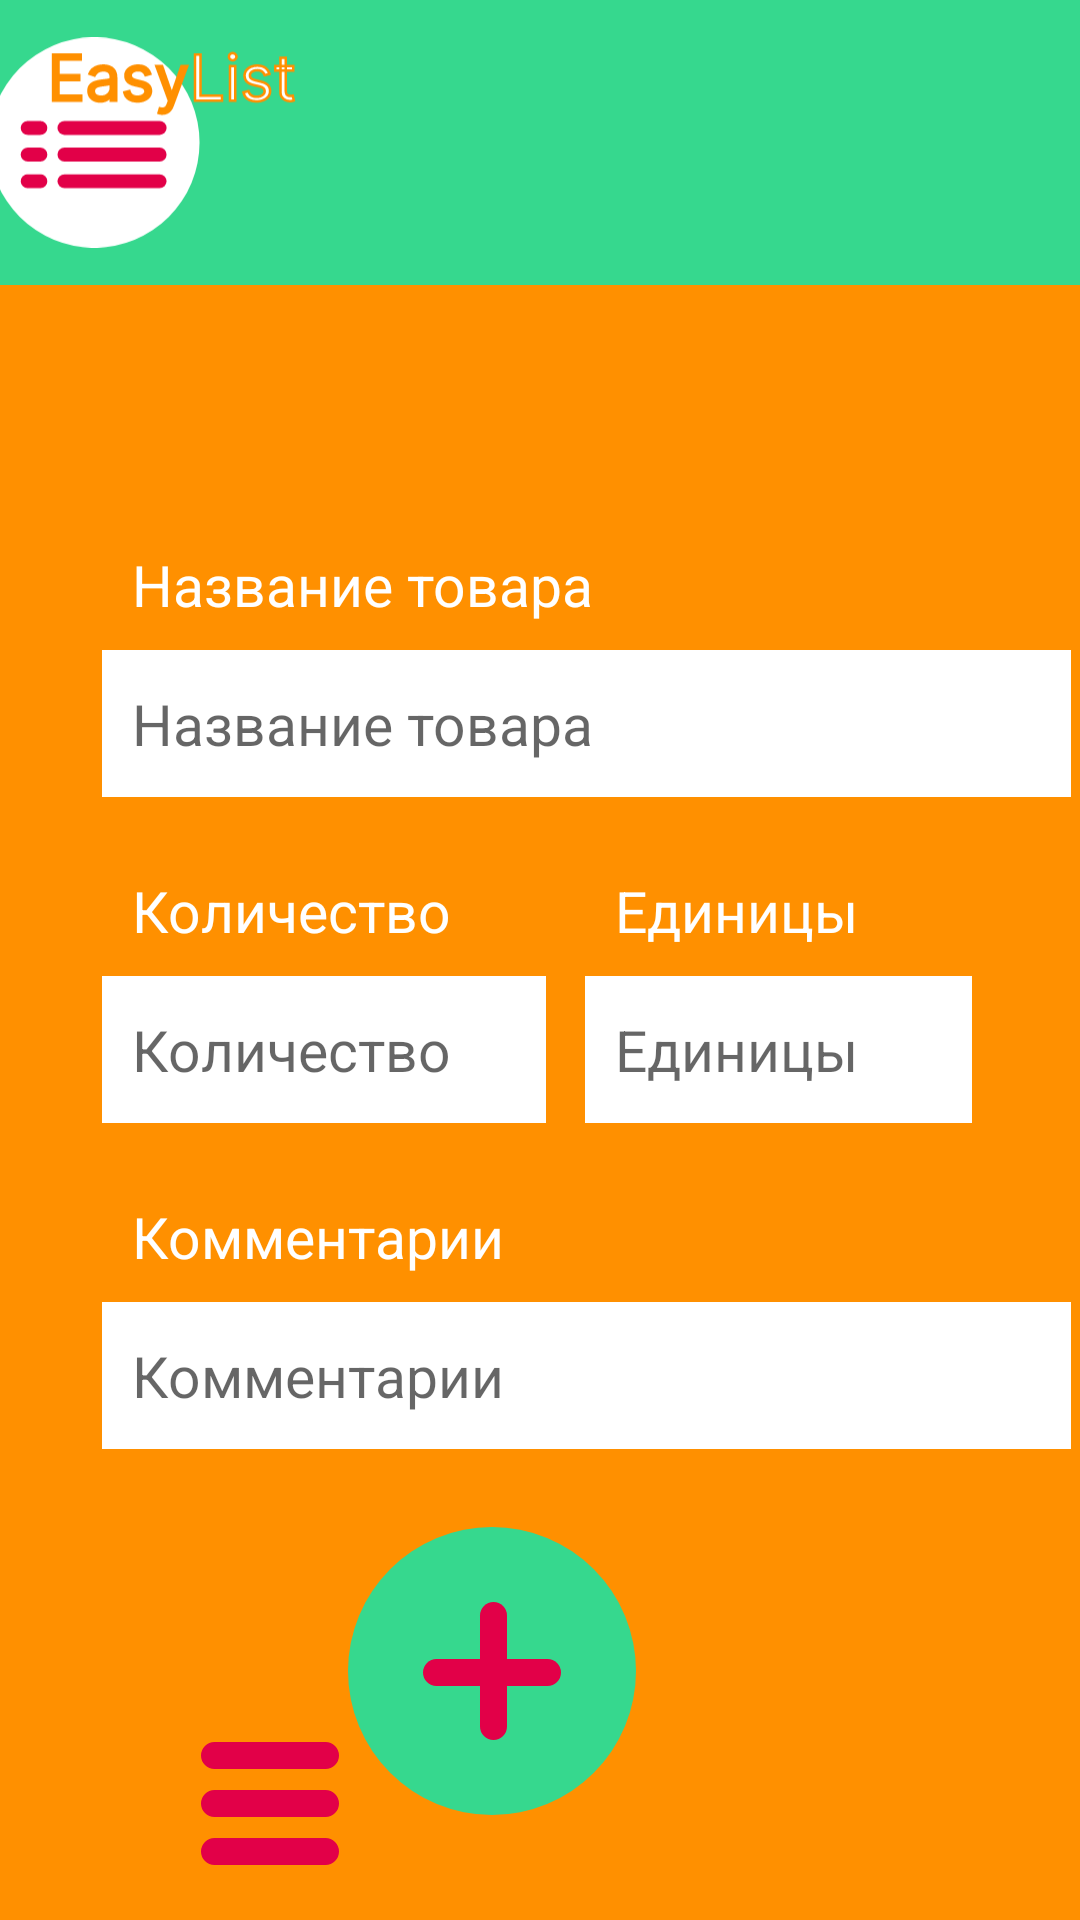

Point at icon controls on the screen. Image size 1080 × 1920, points as point (x, y).
add new product: point (492, 1671)
